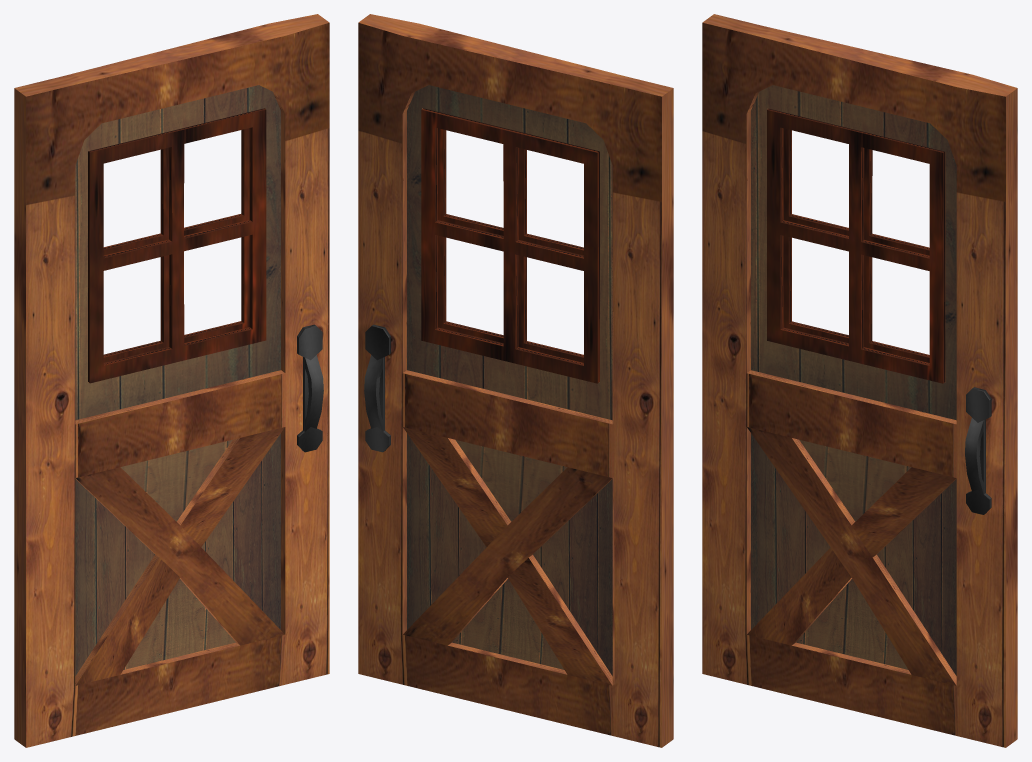
The model's file is Door.fbx.
3 views of the same model, side by side, from view 1: azimuth 30°, elevation 25°; view 2: azimuth 150°, elevation 25°; view 3: azimuth 330°, elevation 25° (orthographic).
Parts seen in each view (by area): view 1: DoorA4; view 2: DoorA4; view 3: DoorA4.
Boxes of the visible parts, x1=… form: DoorA4: x1=14, y1=14, x2=329, y2=747; DoorA4: x1=358, y1=14, x2=673, y2=747; DoorA4: x1=702, y1=14, x2=1017, y2=747.
Bounding box in the file's own units: 3 × 6.15 × 0.6038.
